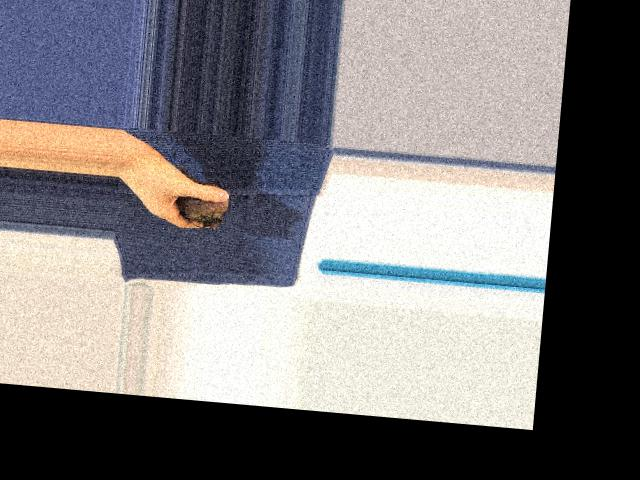beet: (175, 163, 232, 229)
